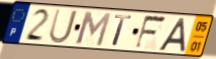2: (22, 8, 52, 42)
A: (156, 17, 186, 54)
F: (133, 14, 169, 51)
M: (74, 10, 113, 48)
T: (110, 14, 134, 47)
U: (47, 8, 79, 45)
